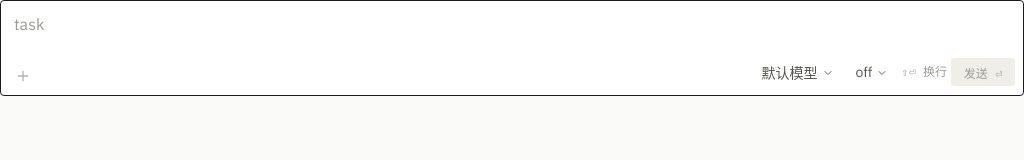
Test: composer completion menus › lists commands after a leading slash and completes the name
Type "/re" into the text box with test id "composer-input" at (512, 28), box [9,8,1015,48]
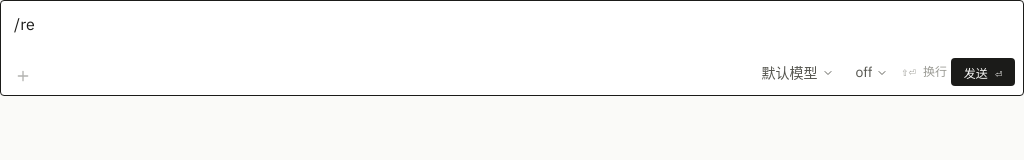
Press Enter in the text box with test id "composer-input", box [9,8,1015,48]
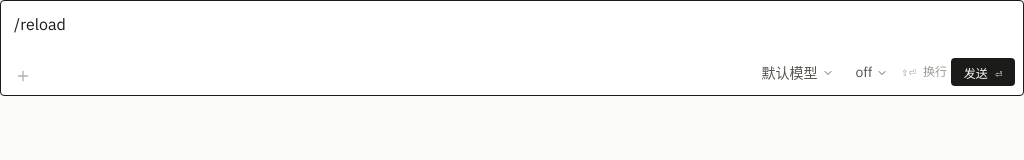
Check: the text box with test id "composer-input" holds "/reload ", box [9,8,1015,48]
